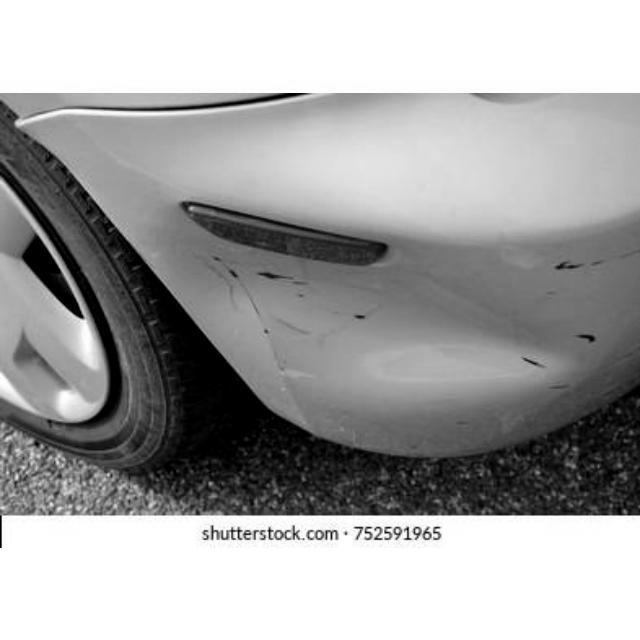rear-bumper-dent: (18, 110, 638, 458)
